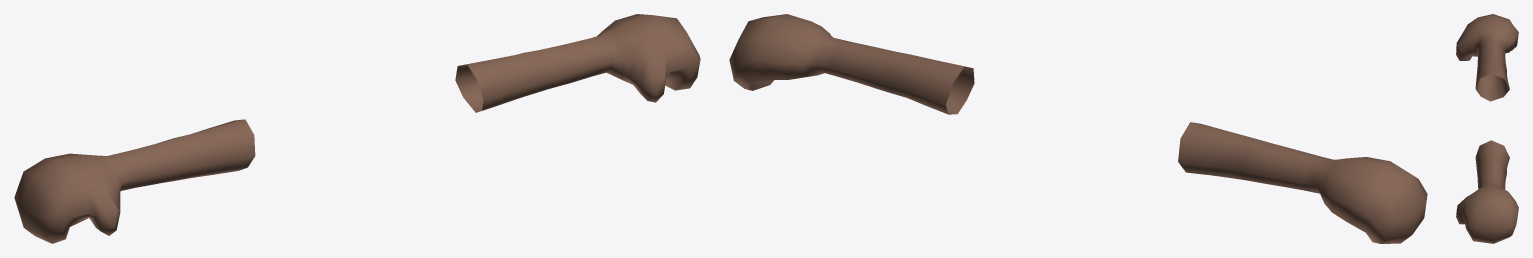
File: Body_Black_ArmA_1.fbx
The picture shows the model from 3 angles, left to right: view 1: azimuth 30°, elevation 25°; view 2: azimuth 150°, elevation 25°; view 3: azimuth 270°, elevation 25°; orthographic projection. The views are drawn at different scales.
Parts seen in each view (by area): view 1: Body_Black_ArmA_1; view 2: Body_Black_ArmA_1; view 3: Body_Black_ArmA_1.
Boxes of the visible parts, x1,y1,x2,y2 form: Body_Black_ArmA_1: (14, 14, 700, 243); Body_Black_ArmA_1: (729, 14, 1427, 243); Body_Black_ArmA_1: (1456, 14, 1518, 243).
Size of the model in its own units: 130 by 13.15 by 17.22.
